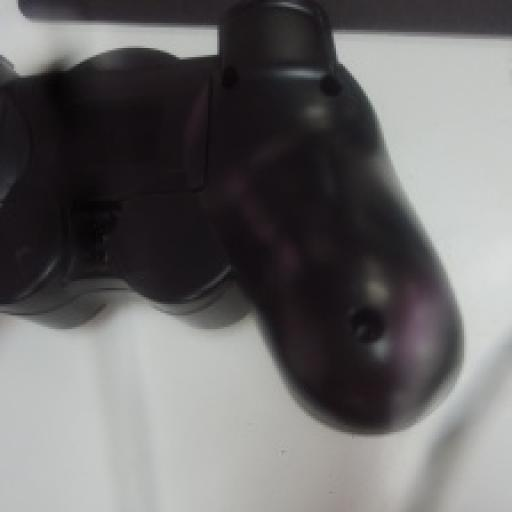game pad: (2, 0, 459, 432)
